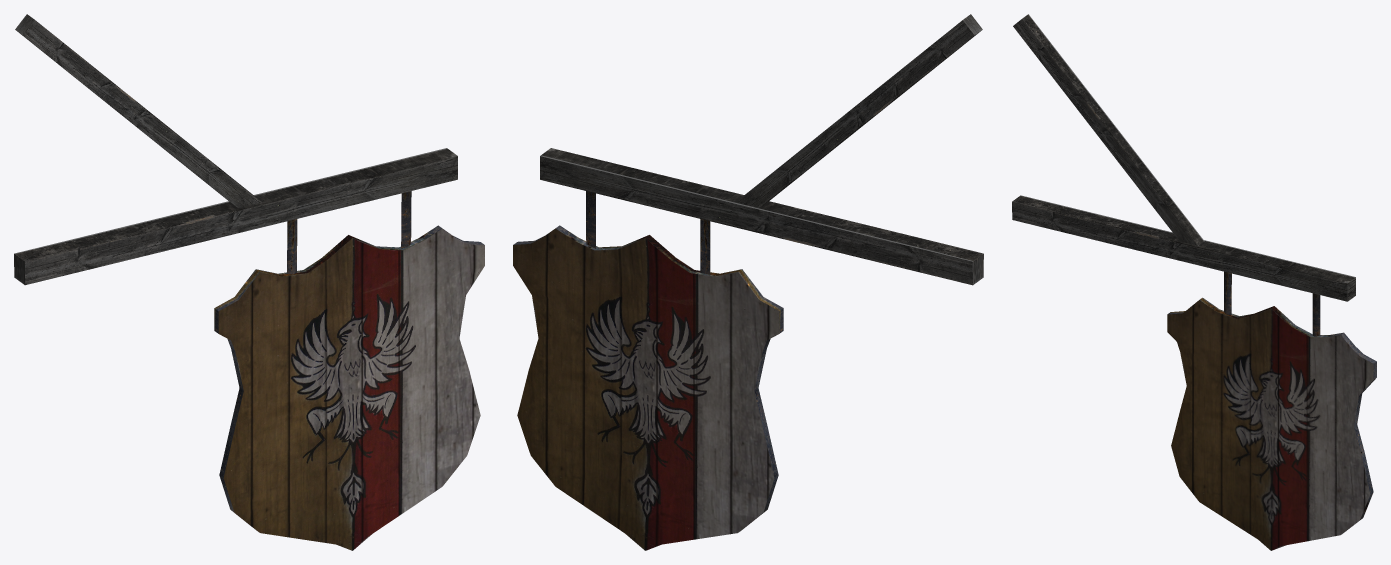
File: emblem03_LOD02.fbx
The picture shows the model from 3 angles, left to right: view 1: azimuth 30°, elevation 25°; view 2: azimuth 150°, elevation 25°; view 3: azimuth 330°, elevation 25°; orthographic projection. The views are drawn at different scales.
Parts seen in each view (by area): view 1: Mesh Object; view 2: Mesh Object; view 3: Mesh Object.
Part boxes in pixels (box(x1,y1,x2,y2)): Mesh Object: box(14, 14, 484, 550); Mesh Object: box(513, 14, 983, 550); Mesh Object: box(1012, 14, 1376, 550).
Bounding box in the file's own units: 1.52 × 1.91 × 0.0628.
